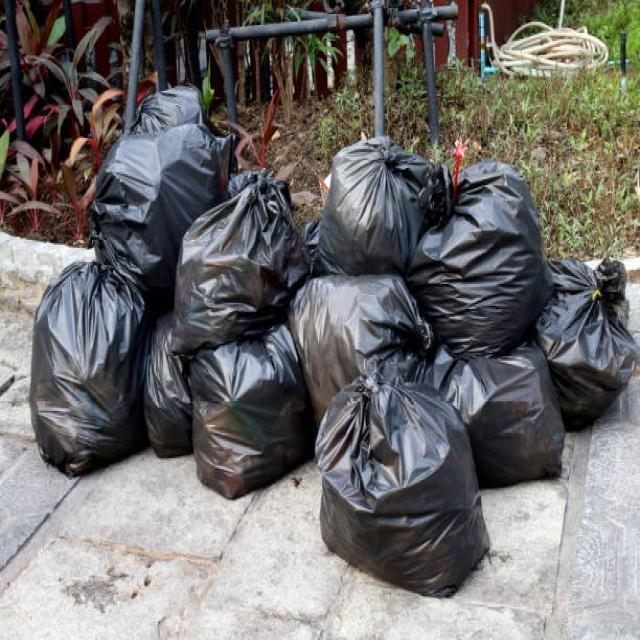Vinyl: (312, 368, 492, 604), (26, 248, 152, 483), (86, 85, 230, 290), (416, 161, 548, 360), (178, 328, 314, 511), (165, 164, 306, 340), (291, 260, 444, 410), (540, 244, 640, 434), (445, 348, 566, 498), (315, 134, 434, 284)
